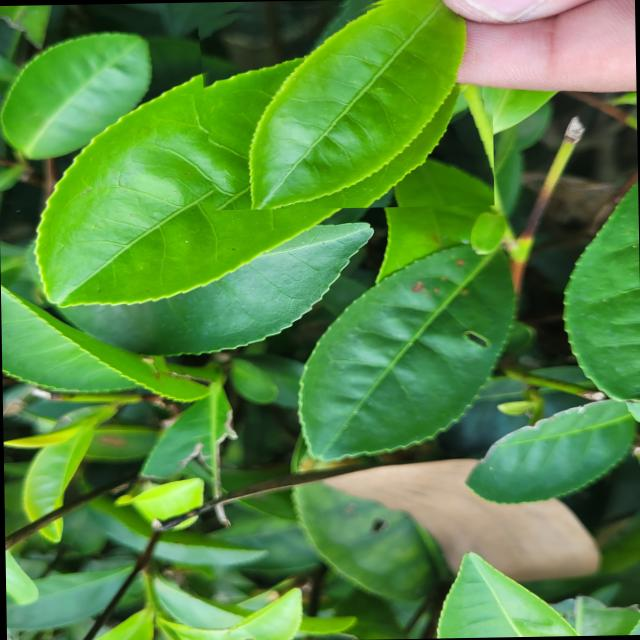Catagory A(1-2 days): (195, 0, 493, 210)
